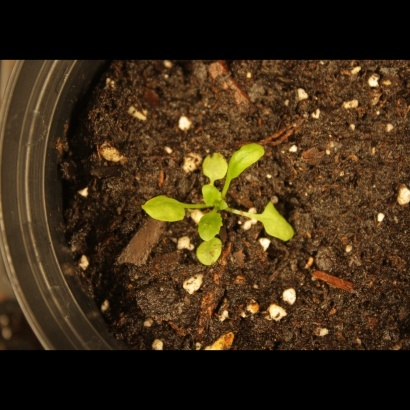leaf: (242, 192, 301, 243), (136, 190, 192, 231), (223, 138, 268, 185), (201, 146, 229, 184), (194, 236, 225, 267), (196, 210, 225, 243), (198, 183, 229, 211)
